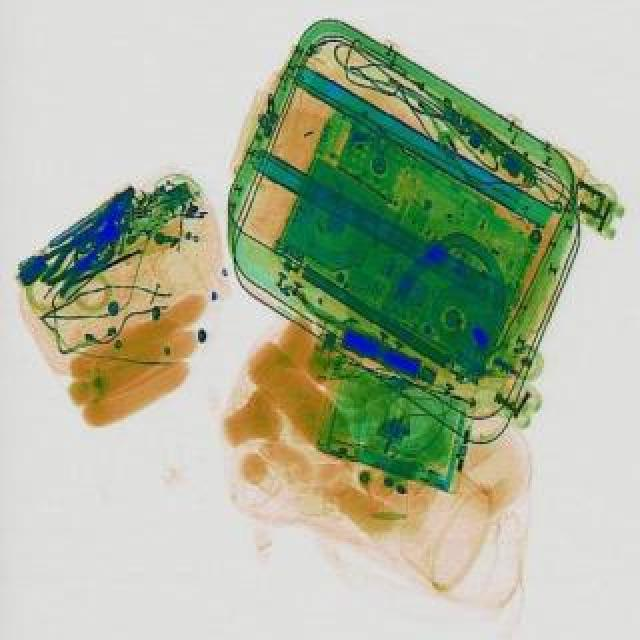wrench: (38, 180, 146, 302), (28, 216, 136, 294)
